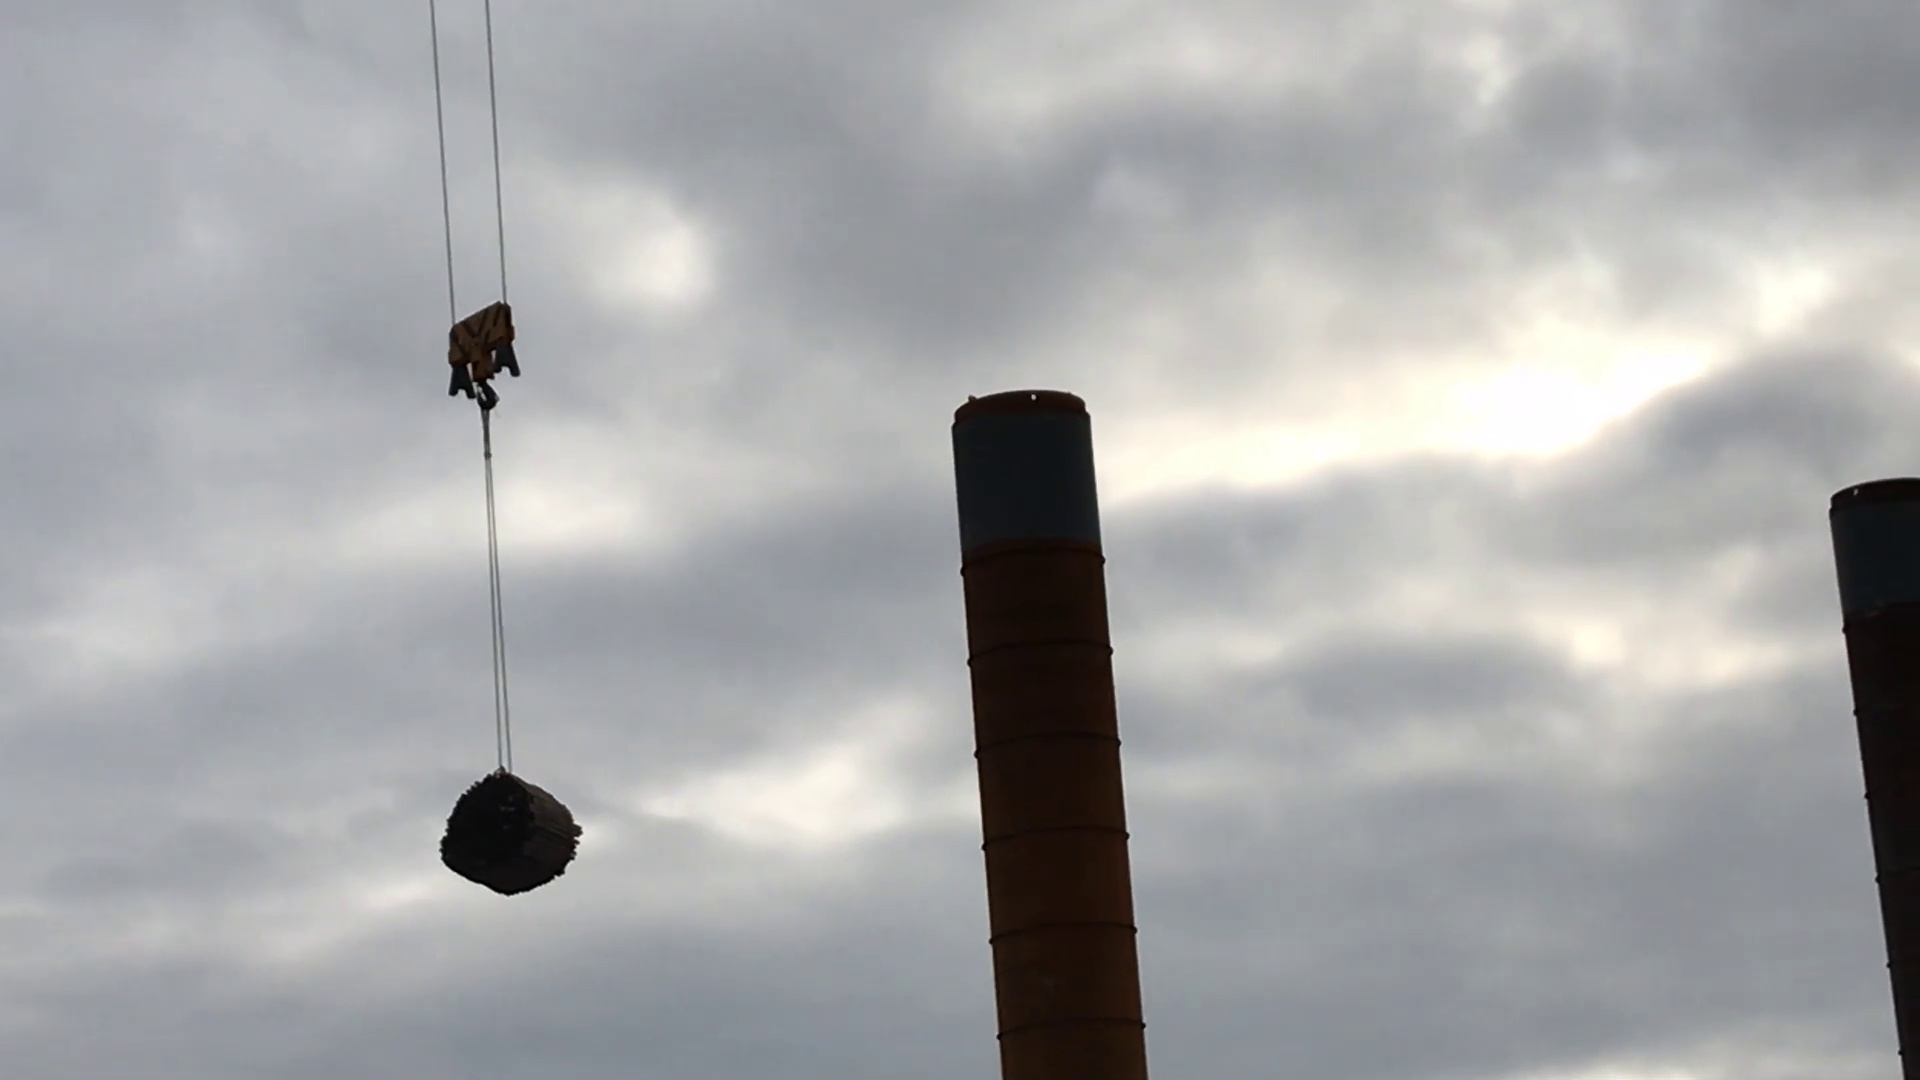hook: (418, 302, 534, 421)
